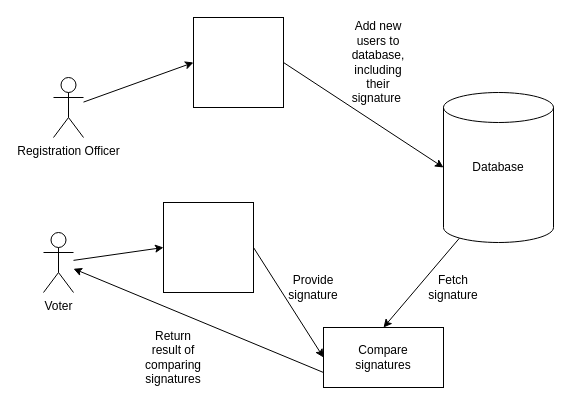
Image size: 571x405. Some labels were removed from this diagram. Here are the shapes that lost their labels. From the top down, the box of each, then its label:
(192, 16, 284, 108): Accounts service
(162, 202, 254, 292): Voting service
